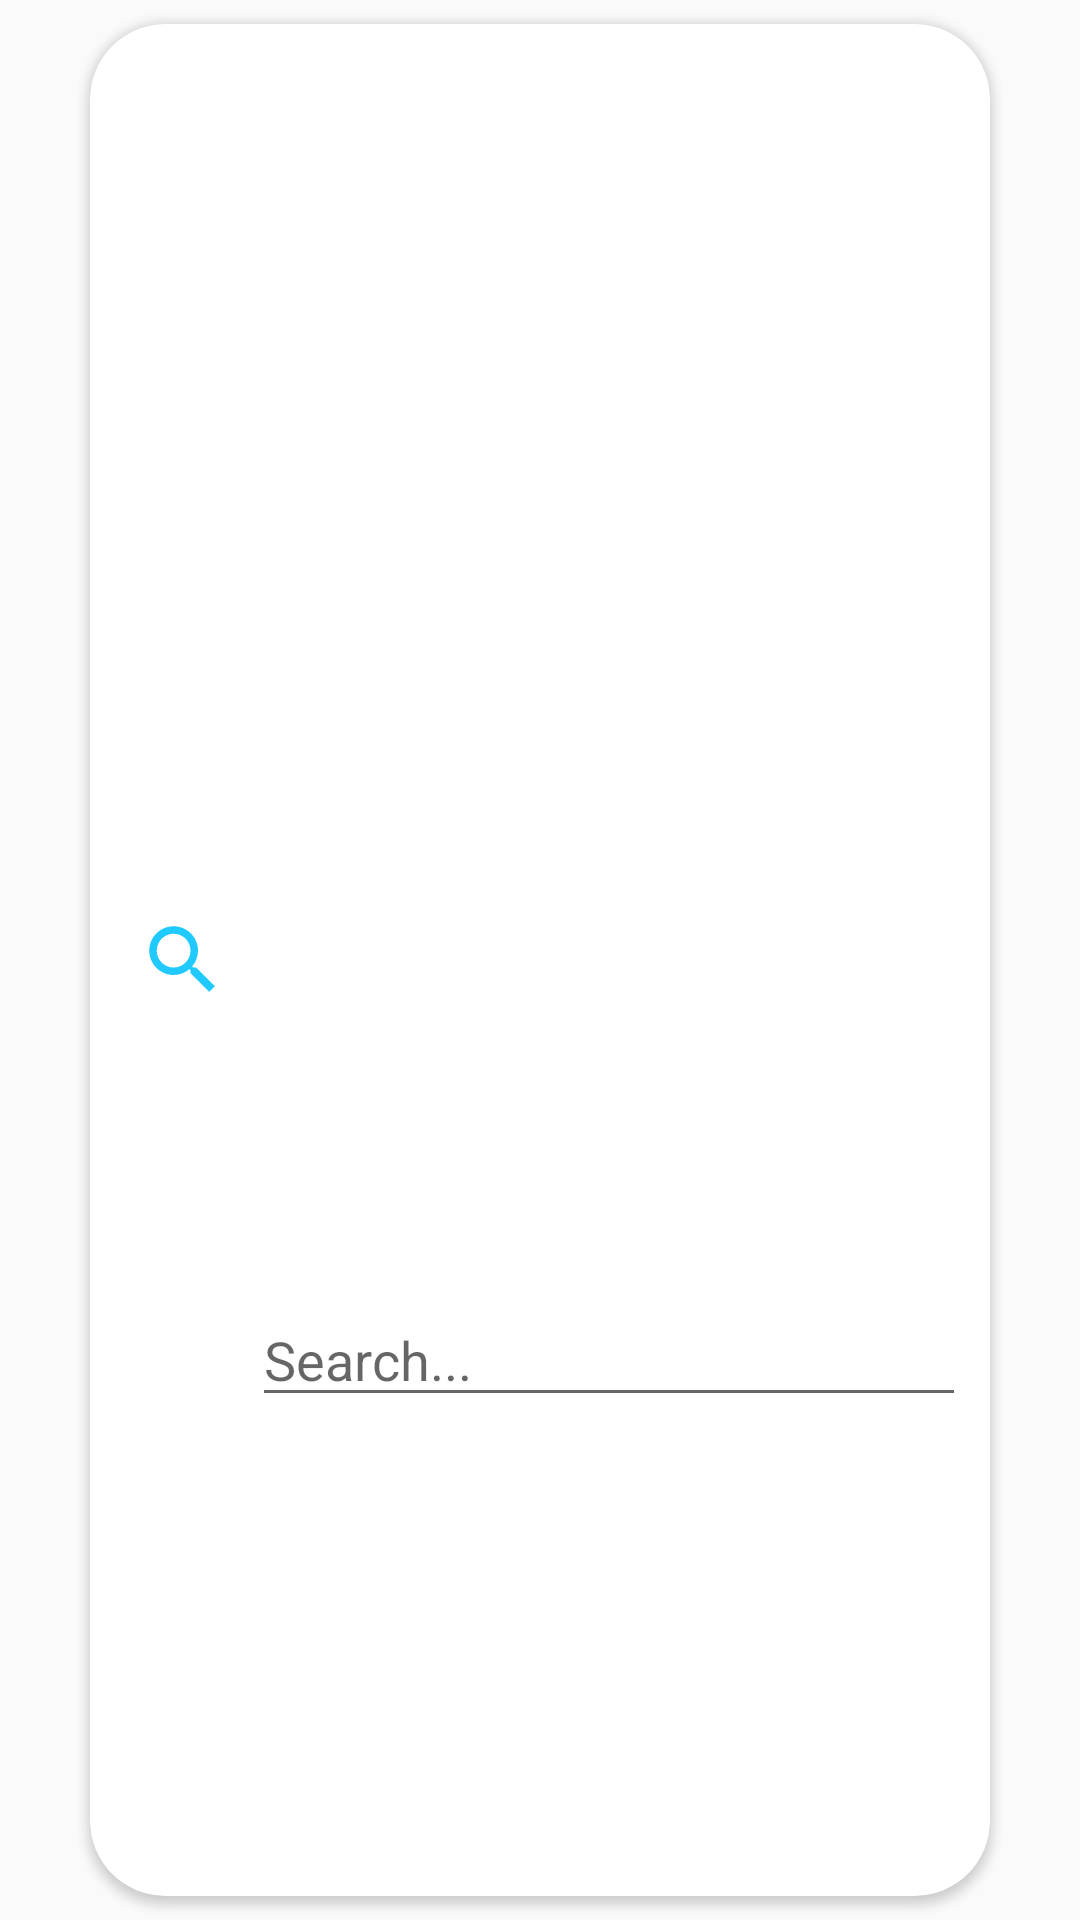

Locate icon controls on the screen. Image size 1080*1920, boxes as [x1=x1, y1=y1, x2=x2, y2=y2].
search: [x1=149, y1=926, x2=215, y2=992]
